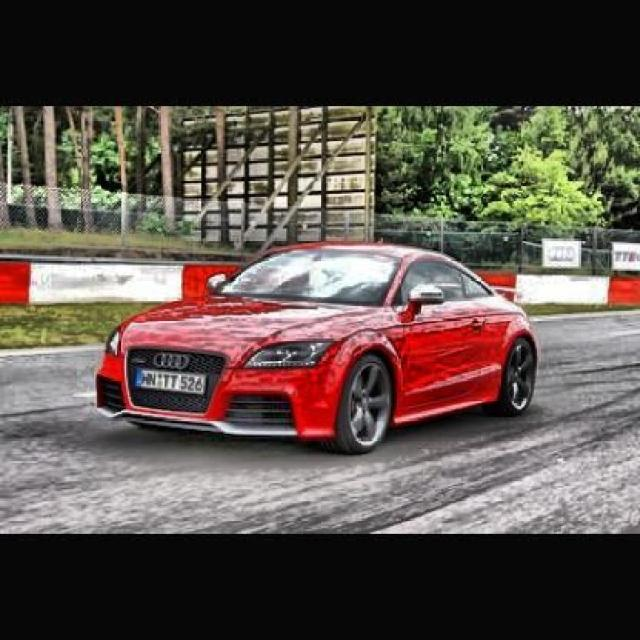red: (96, 240, 535, 449)
